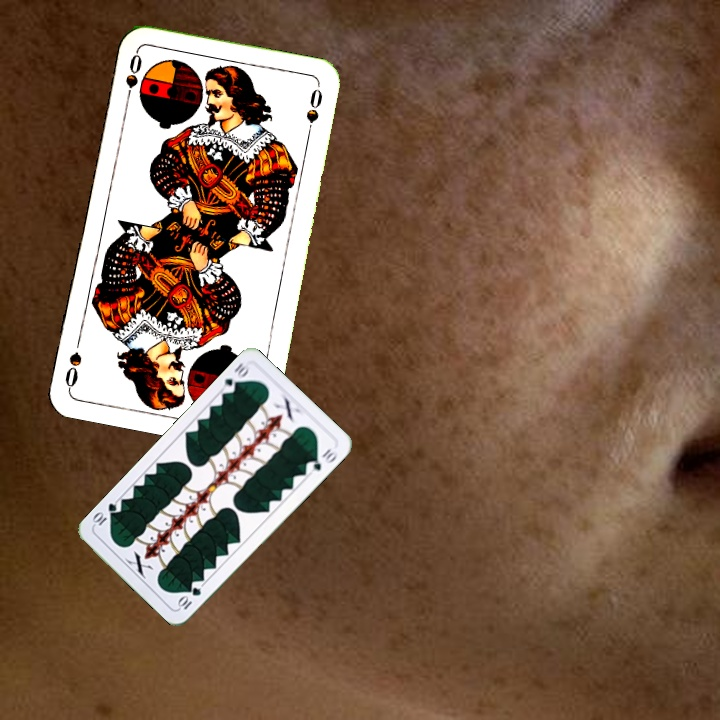G10: (220, 359, 253, 396), (174, 583, 204, 612)
SO: (121, 48, 145, 107)
